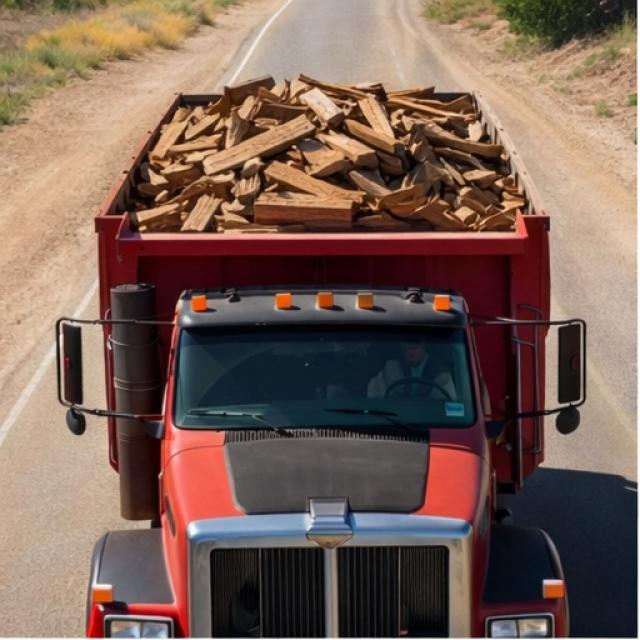trailer: (119, 88, 550, 240)
truck: (45, 67, 589, 640)
